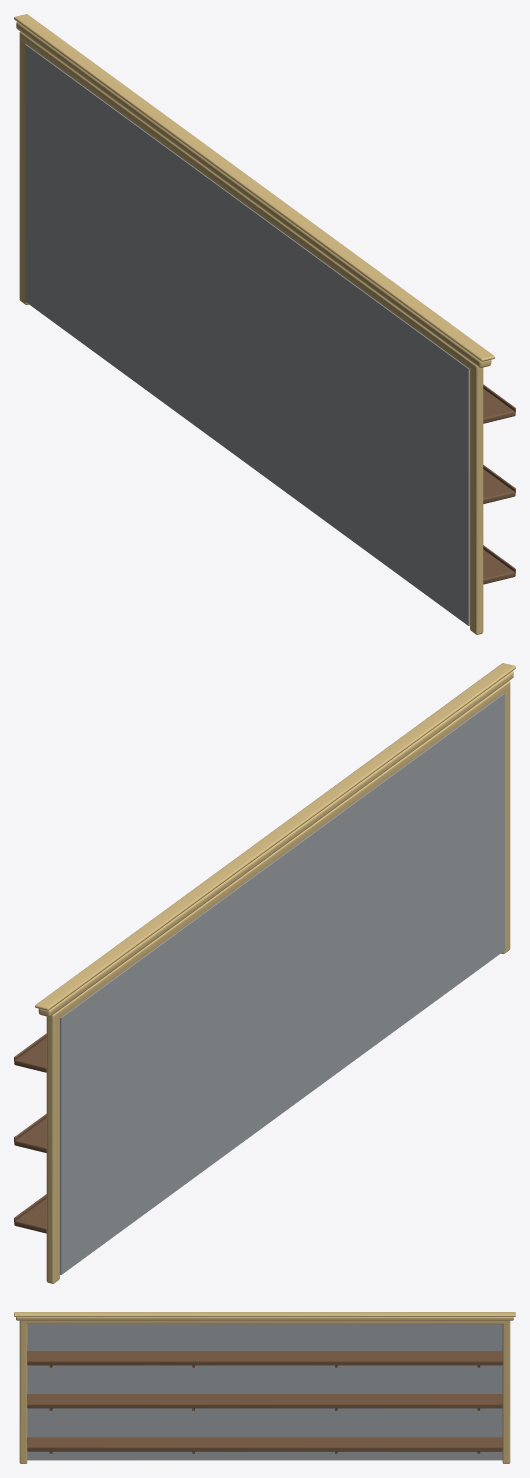
Rendered from lp_back_bar.glb.
3 renders of one model, top to bottom at view 1: azimuth 30°, elevation 25°; view 2: azimuth 150°, elevation 25°; view 3: azimuth 270°, elevation 25°, orthographic. The views are drawn at different scales.
Visible parts, largest first — view 1: lp_back_bar; view 2: lp_back_bar; view 3: lp_back_bar.
Boxes of the visible parts, x1,y1,x2,y2 form: lp_back_bar: (14, 14, 515, 634); lp_back_bar: (14, 663, 515, 1283); lp_back_bar: (14, 1312, 515, 1463).
Size of the model in its own units: 0.311 by 1.74 by 5.28.
